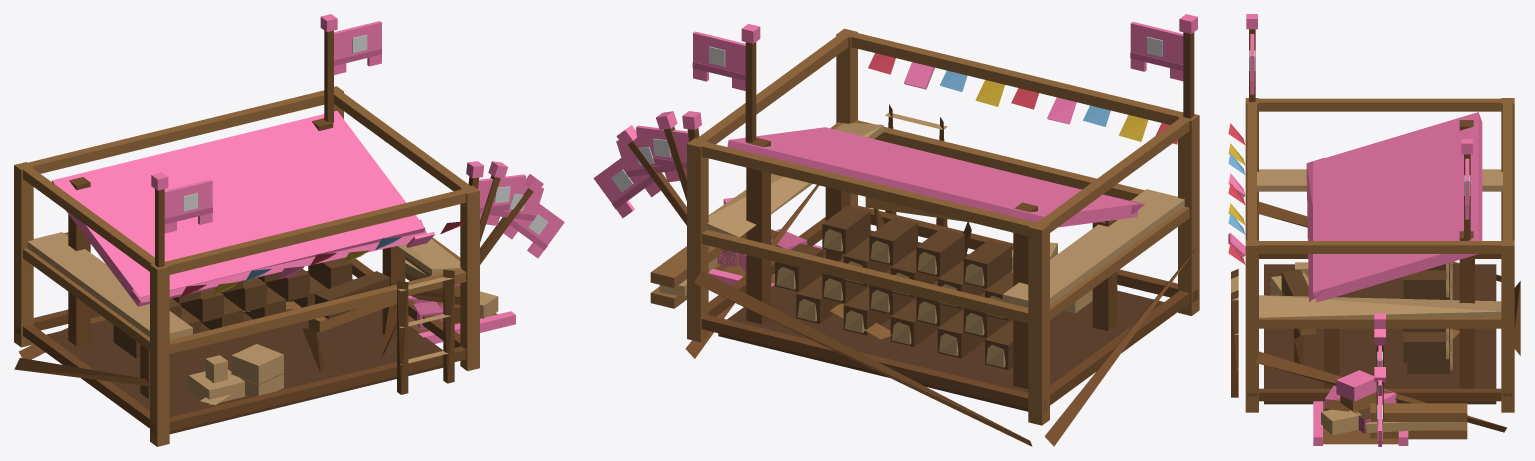
File: opossum-producer.glb
3 renders of one model, left to right at view 1: azimuth 30°, elevation 25°; view 2: azimuth 150°, elevation 25°; view 3: azimuth 270°, elevation 25°, orthographic. The views are drawn at different scales.
Parts seen in each view (by area): view 1: scaffold-mesh, built-mesh, dismantle-50-mesh, dismantle-75-mesh, scaffold-banner, banner, dismantle-25-mesh, dismantle-25-banner, flag-pole, dismantle-50-banner, dismantle-75-banner, scaffold-flag-pole (+2 smaller); view 2: scaffold-mesh, built-mesh, dismantle-50-mesh, dismantle-75-mesh, scaffold-banner, banner, dismantle-25-banner, dismantle-25-mesh, flag-pole, dismantle-50-banner, dismantle-75-banner, scaffold-flag-pole (+2 smaller); view 3: scaffold-mesh, built-mesh, dismantle-50-mesh, dismantle-25-mesh, dismantle-75-mesh, flag-pole, scaffold-flag-pole, banner, scaffold-banner, dismantle-25-flag-pole.
Part boxes in pixels (<box>): scaffold-mesh: <box>14,86,479,446</box>; built-mesh: <box>51,111,426,384</box>; dismantle-50-mesh: <box>46,271,515,417</box>; dismantle-75-mesh: <box>68,244,515,396</box>; scaffold-banner: <box>164,179,212,233</box>; banner: <box>334,21,381,74</box>; dismantle-25-mesh: <box>141,275,509,398</box>; dismantle-25-banner: <box>503,204,564,258</box>; flag-pole: <box>320,14,337,122</box>; dismantle-50-banner: <box>486,182,543,230</box>; dismantle-75-banner: <box>478,174,526,220</box>; scaffold-flag-pole: <box>151,172,168,267</box>; scaffold-mesh: <box>650,28,1199,446</box>; built-mesh: <box>727,127,1144,369</box>; dismantle-50-mesh: <box>709,206,1163,392</box>; dismantle-75-mesh: <box>709,187,1117,368</box>; scaffold-banner: <box>1130,21,1183,81</box>; banner: <box>692,31,745,90</box>; dismantle-25-banner: <box>593,155,660,218</box>; dismantle-25-mesh: <box>709,197,1075,361</box>; flag-pole: <box>741,24,760,142</box>; dismantle-50-banner: <box>616,135,679,187</box>; dismantle-75-banner: <box>636,125,688,176</box>; scaffold-flag-pole: <box>1179,14,1197,118</box>; scaffold-mesh: <box>1228,98,1520,439</box>; built-mesh: <box>1270,112,1482,368</box>; dismantle-50-mesh: <box>1264,264,1496,445</box>; dismantle-25-mesh: <box>1313,329,1459,445</box>; dismantle-75-mesh: <box>1283,264,1451,445</box>; flag-pole: <box>1461,139,1472,240</box>; scaffold-flag-pole: <box>1246,14,1257,101</box>; banner: <box>1464,158,1470,219</box>; scaffold-banner: <box>1249,34,1255,94</box>; dismantle-25-flag-pole: <box>1374,367,1385,418</box>.
Bounding box in the file's own units: 2.71 × 1.58 × 1.51.
